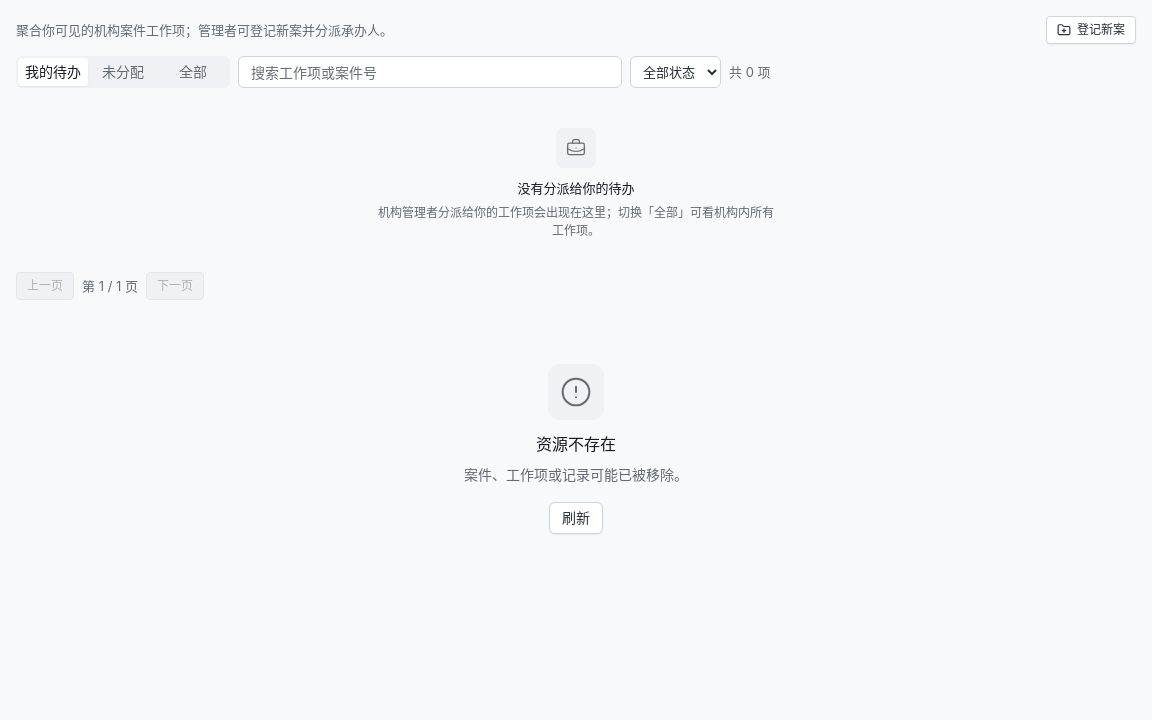
Test: Z06/Z10：角色待办范围与空态 › 无待办时「全部」空态提示登记新案
Expected: the message with test id "queue-empty" shows "没有分派给你的待办", [518, 180, 634, 196]
Click the radio button with test id "queue-scope-all": (193,72) [158, 58, 228, 86]
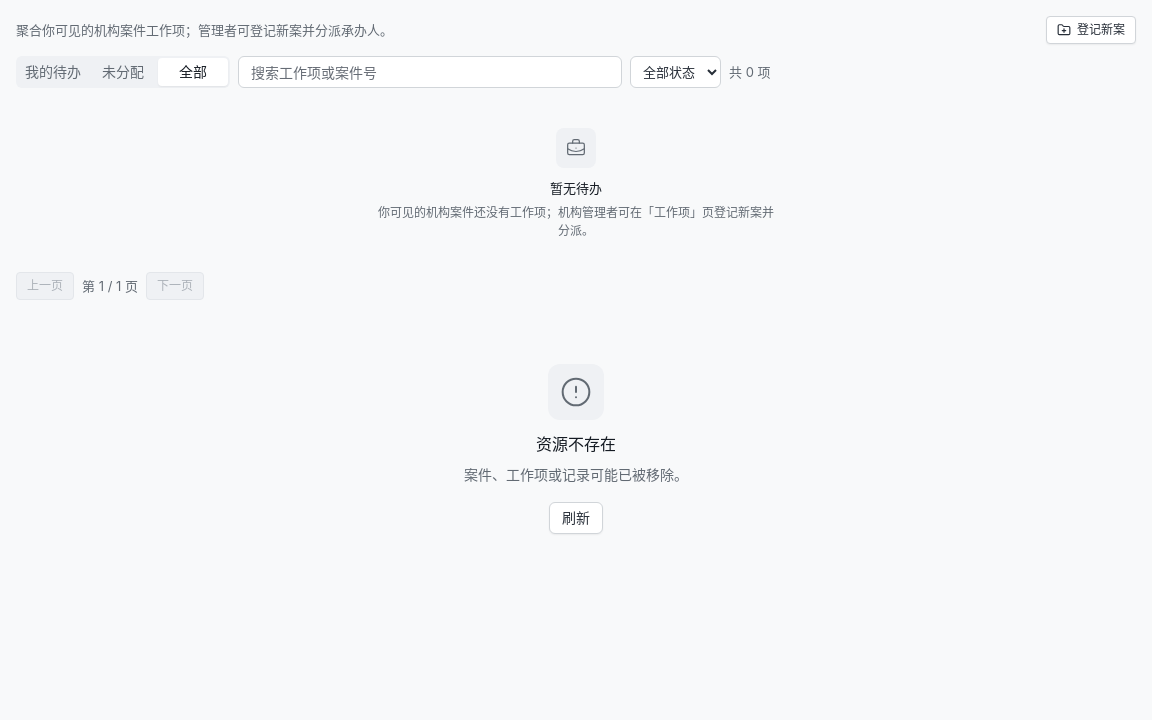
Expected: the message with test id "queue-empty" shows "暂无待办", [550, 180, 602, 196]
